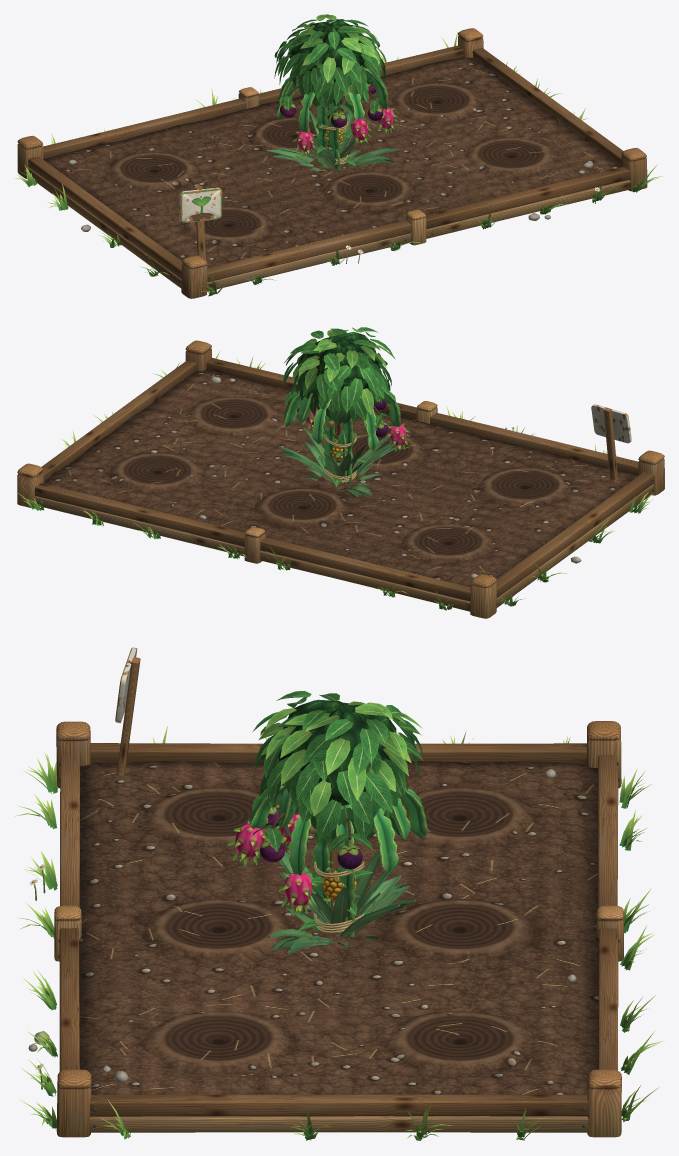
File: garden.glb
3 renders of one model, top to bottom at view 1: azimuth 30°, elevation 25°; view 2: azimuth 150°, elevation 25°; view 3: azimuth 270°, elevation 25°, orthographic. The views are drawn at different scales.
Parts seen in each view (by area): view 1: GardenBed, Mangosteen_Grown, Dragonfruit_Grown, Pineapple_Grown, Dragonfruit_Fruit_0; view 2: GardenBed, Mangosteen_Grown, Dragonfruit_Grown, Pineapple_Grown; view 3: GardenBed, Mangosteen_Grown, Dragonfruit_Grown, Pineapple_Grown, Dragonfruit_Fruit_1, Dragonfruit_Fruit_0.
Part boxes in pixels (bbox=[...]): GardenBed: bbox=[15, 28, 663, 298]; Mangosteen_Grown: bbox=[274, 14, 386, 151]; Dragonfruit_Grown: bbox=[276, 67, 388, 169]; Pineapple_Grown: bbox=[266, 110, 398, 168]; Dragonfruit_Fruit_0: bbox=[346, 116, 371, 145]; GardenBed: bbox=[16, 340, 664, 618]; Mangosteen_Grown: bbox=[283, 327, 395, 467]; Dragonfruit_Grown: bbox=[283, 390, 400, 484]; Pineapple_Grown: bbox=[278, 427, 394, 497]; GardenBed: bbox=[15, 647, 664, 1140]; Mangosteen_Grown: bbox=[252, 691, 423, 853]; Dragonfruit_Grown: bbox=[249, 783, 427, 937]; Pineapple_Grown: bbox=[268, 850, 415, 954]; Dragonfruit_Fruit_1: bbox=[279, 871, 319, 915]; Dragonfruit_Fruit_0: bbox=[227, 819, 267, 867].
Bounding box in the file's own units: 1.61 × 0.5238 × 1.11.
9 materials, 9 textured.
